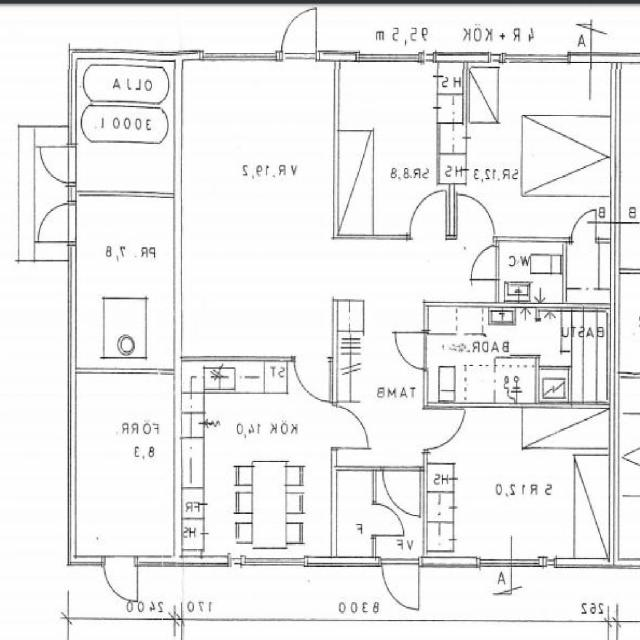door: (382, 556, 418, 610), (384, 465, 421, 515), (456, 193, 494, 241), (409, 193, 446, 241), (282, 11, 316, 63), (333, 406, 374, 448), (104, 556, 138, 606), (423, 409, 462, 450), (36, 203, 76, 242), (38, 147, 76, 183), (392, 332, 428, 368), (506, 321, 540, 355), (467, 246, 499, 280), (372, 504, 404, 536), (572, 208, 596, 241)
